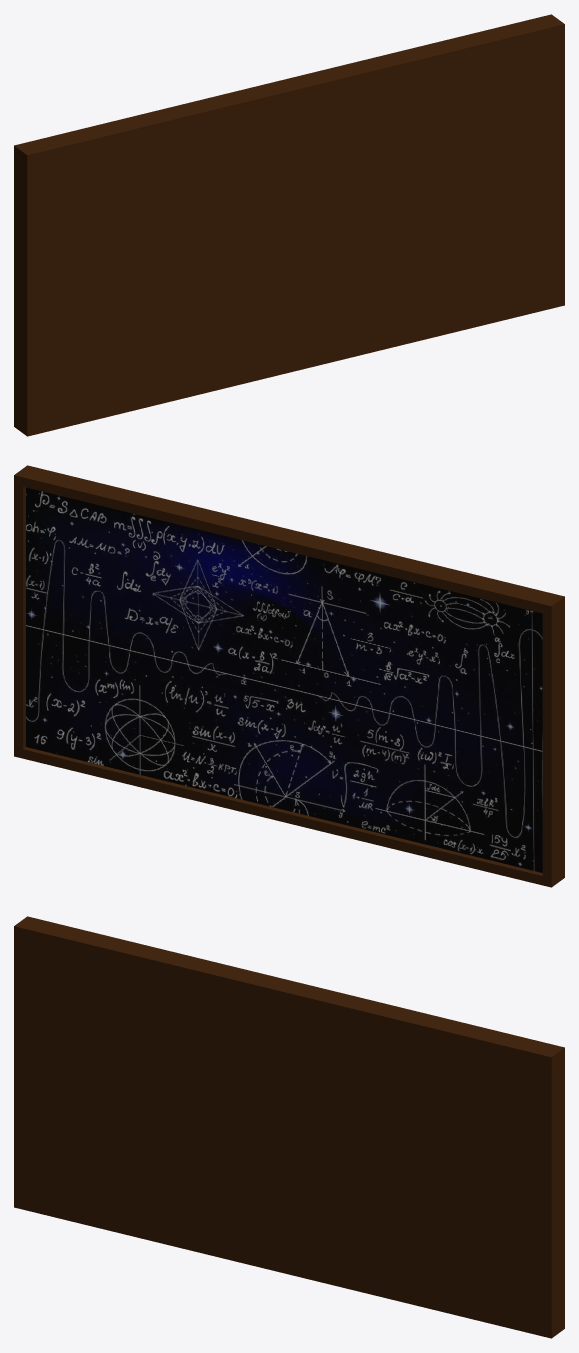
Rendered from Board.fbx.
The picture shows the model from 3 angles, top to bottom: view 1: azimuth 30°, elevation 25°; view 2: azimuth 150°, elevation 25°; view 3: azimuth 330°, elevation 25°; orthographic projection.
Parts seen in each view (by area): view 1: Board; view 2: Board; view 3: Board.
Part boxes in pixels (x1,y1,x2,y2): Board: (14, 14, 564, 436); Board: (14, 465, 564, 887); Board: (14, 916, 564, 1338).
Size of the model in its own units: 300 by 150 by 13.
